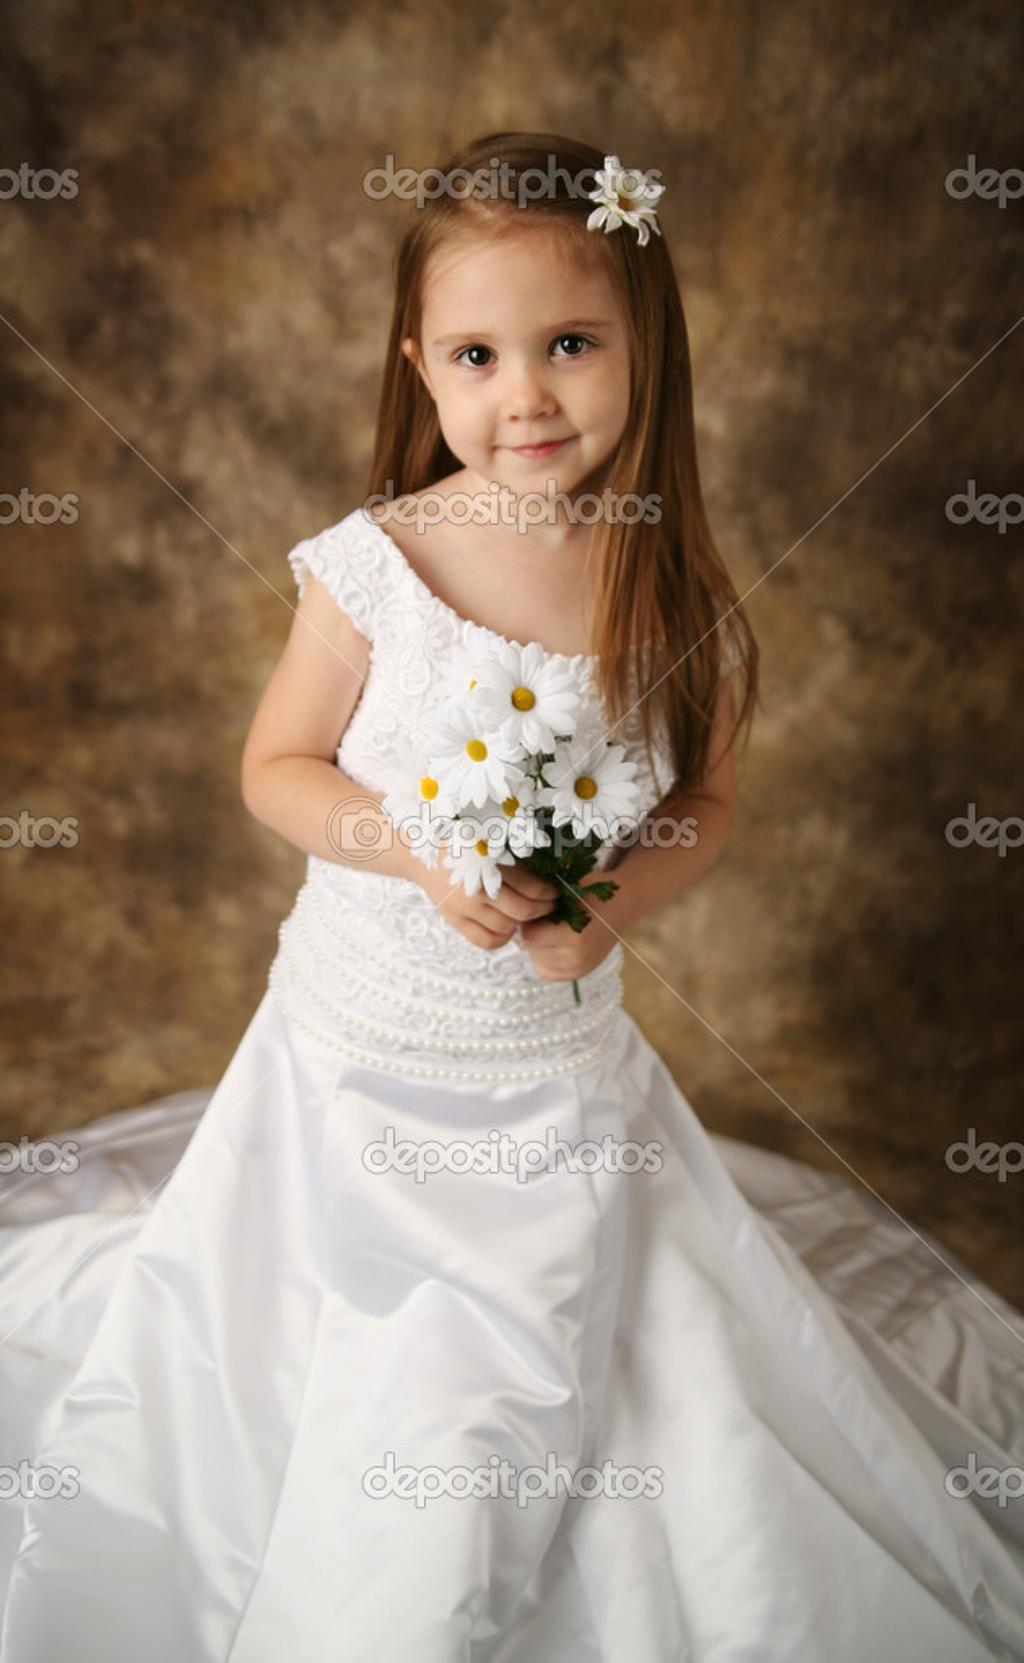face: (423, 228, 634, 504)
